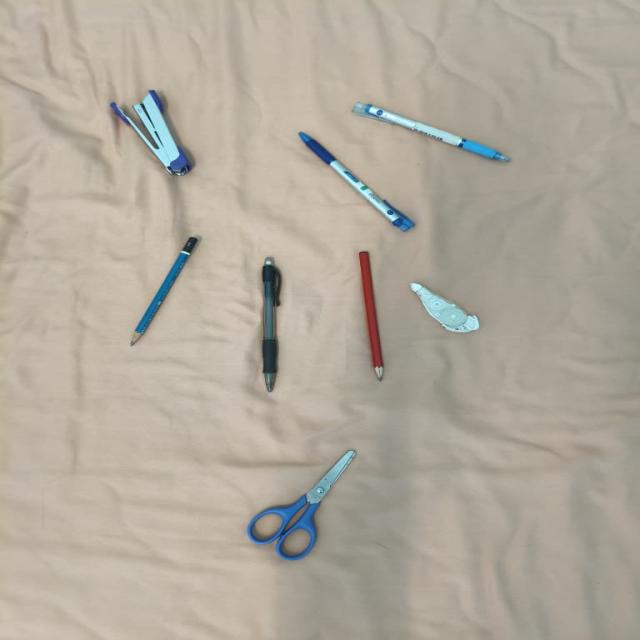pen: (298, 132, 413, 231), (352, 102, 510, 161)
pencil: (132, 237, 197, 346), (359, 252, 382, 380)
scissor: (248, 451, 355, 561)
stapler: (112, 91, 190, 175)
